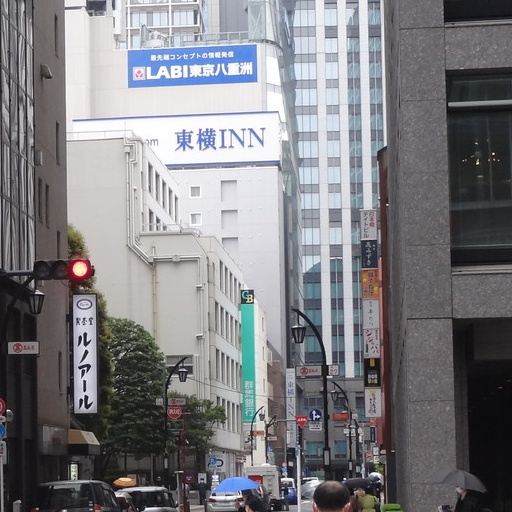Traffic_Signal_Red: (24, 252, 101, 284)
